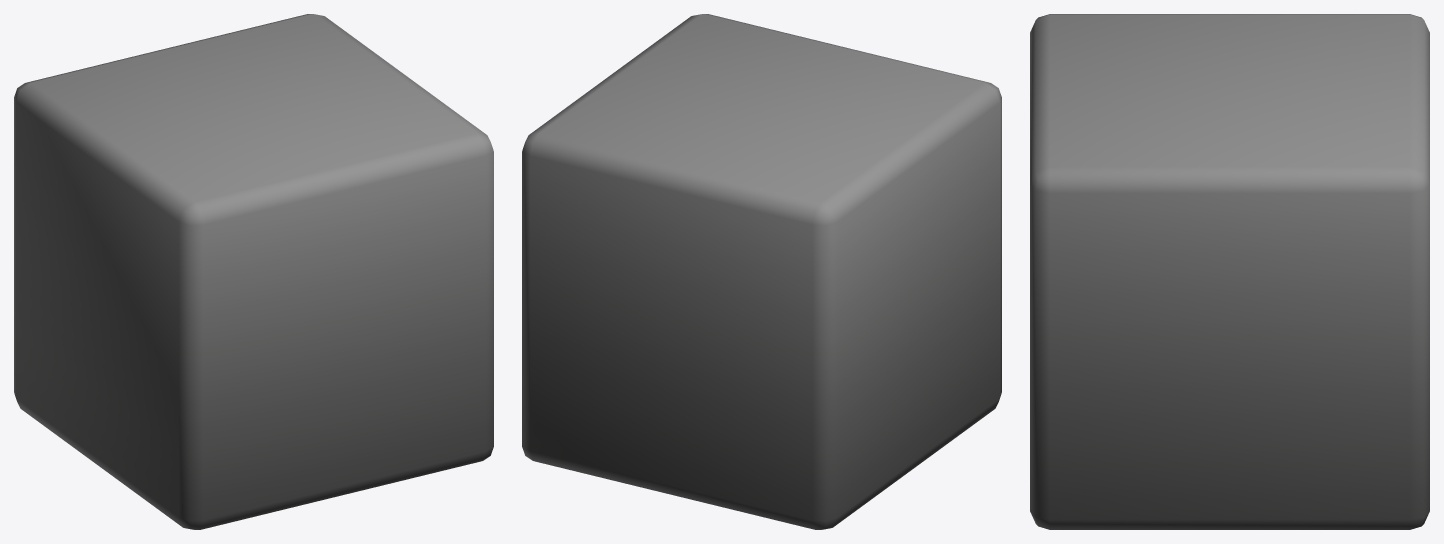
Rendered from 3D_Tile_Dungeon_01.glb.
3 renders of one model, left to right at view 1: azimuth 30°, elevation 25°; view 2: azimuth 150°, elevation 25°; view 3: azimuth 270°, elevation 25°, orthographic. The views are drawn at different scales.
Parts seen in each view (by area): view 1: 3D_Tile_Dungeon_01; view 2: 3D_Tile_Dungeon_01; view 3: 3D_Tile_Dungeon_01.
Part boxes in pixels (x1,y1,x2,y2): 3D_Tile_Dungeon_01: [14, 14, 493, 529]; 3D_Tile_Dungeon_01: [522, 14, 1001, 529]; 3D_Tile_Dungeon_01: [1030, 14, 1429, 529].
Bounding box in the file's own units: 2 × 2 × 2.
Materials: 1 (1 with a texture image).
